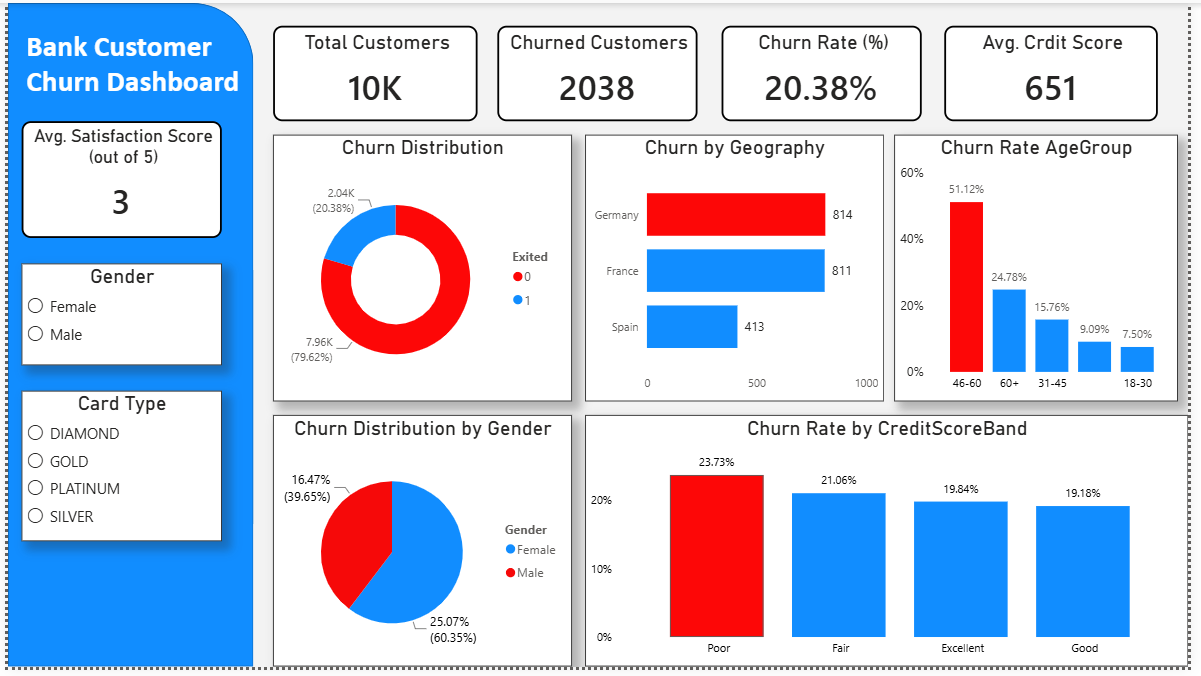

What the dashboard file says about the page in this screenshot:
{"tool":"powerbi","page":{"name":"Page 1","canvas":[1280,720],"ordinal":0},"visuals":[{"type":"cardVisual","title":"Total Customers","fields":{"Data":["CountNonNull(cleaned_bank_churn_records.Exited)"]},"box":[287.6,24.7,221.9,103.5],"z":0},{"type":"cardVisual","title":"Churned Customers","fields":{"Data":["cleaned_bank_churn_records.Churned Customers"]},"box":[530.9,24.7,216.9,103.5],"z":1000},{"type":"cardVisual","title":"Churn Rate (%)","fields":{"Data":["cleaned_bank_churn_records.Churn Rate"]},"box":[774.1,24.7,216.9,103.5],"z":2000},{"type":"cardVisual","title":"Avg. Crdit Score","fields":{"Data":["cleaned_bank_churn_records.avg_credit_score"]},"box":[1015.7,24.7,231.7,103.5],"z":3000},{"type":"shape","box":[0,0,266.3,719.9],"z":4000},{"type":"textbox","box":[14.8,21.4,251.5,110.1],"z":5000},{"type":"donutChart","title":"Churn Distribution","fields":{"Category":["cleaned_bank_churn_records.Exited"],"Y":["CountNonNull(cleaned_bank_churn_records.Gender)"]},"box":[287.6,143,323.8,289.3],"z":6000},{"type":"cardVisual","title":"Avg. Satisfaction Score (out of 5)","fields":{"Data":["Avg(cleaned_bank_churn_records.Satisfaction Score)"]},"box":[14.8,128.2,216.9,126.6],"z":7000},{"type":"clusteredBarChart","title":"Churn by Geography","fields":{"Category":["cleaned_bank_churn_records.Geography"],"Y":["Sum(cleaned_bank_churn_records.Exited)"]},"box":[626.2,143,323.8,289.3],"z":8000},{"type":"columnChart","title":"Churn Rate AgeGroup","fields":{"Category":["cleaned_bank_churn_records.AgeGroup"],"Y":["cleaned_bank_churn_records.Churn Rate"]},"box":[961.5,143,307.3,289.3],"z":9000},{"type":"pieChart","title":"Churn Distribution by Gender","fields":{"Category":["cleaned_bank_churn_records.Gender"],"Y":["cleaned_bank_churn_records.churn rate new"]},"box":[287.6,447,323.8,272.8],"z":10000},{"type":"columnChart","title":"Churn Rate by CreditScoreBand","fields":{"Y":["cleaned_bank_churn_records.churn rate new"],"Category":["cleaned_bank_churn_records.CreditScoreBand"]},"box":[626.2,447,654.1,272.8],"z":11000},{"type":"listSlicer","fields":{"Values":["cleaned_bank_churn_records.Gender"]},"box":[14.8,282.7,216.9,110.1],"z":12000},{"type":"listSlicer","fields":{"Values":["cleaned_bank_churn_records.Card Type"]},"box":[14.8,420.7,216.9,162.7],"z":13000}]}

Visuals, with their boxes in screenshot pixels (x1, y1, x2, y2), scaled from the page's 1280x720 canvas onto the 1201x676 screenshot:
"Total Customers" cardVisual: {"x1": 270, "y1": 23, "x2": 478, "y2": 120}
"Churned Customers" cardVisual: {"x1": 498, "y1": 23, "x2": 702, "y2": 120}
"Churn Rate (%)" cardVisual: {"x1": 726, "y1": 23, "x2": 930, "y2": 120}
"Avg. Crdit Score" cardVisual: {"x1": 953, "y1": 23, "x2": 1170, "y2": 120}
shape: {"x1": 0, "y1": 0, "x2": 250, "y2": 675}
textbox: {"x1": 14, "y1": 20, "x2": 250, "y2": 123}
"Churn Distribution" donutChart: {"x1": 270, "y1": 134, "x2": 574, "y2": 406}
"Avg. Satisfaction Score (out of 5)" cardVisual: {"x1": 14, "y1": 120, "x2": 217, "y2": 239}
"Churn by Geography" clusteredBarChart: {"x1": 588, "y1": 134, "x2": 891, "y2": 406}
"Churn Rate AgeGroup" columnChart: {"x1": 902, "y1": 134, "x2": 1190, "y2": 406}
"Churn Distribution by Gender" pieChart: {"x1": 270, "y1": 420, "x2": 574, "y2": 675}
"Churn Rate by CreditScoreBand" columnChart: {"x1": 588, "y1": 420, "x2": 1200, "y2": 675}
listSlicer - cleaned_bank_churn_records.Gender: {"x1": 14, "y1": 265, "x2": 217, "y2": 369}
listSlicer - cleaned_bank_churn_records.Card Type: {"x1": 14, "y1": 395, "x2": 217, "y2": 548}
